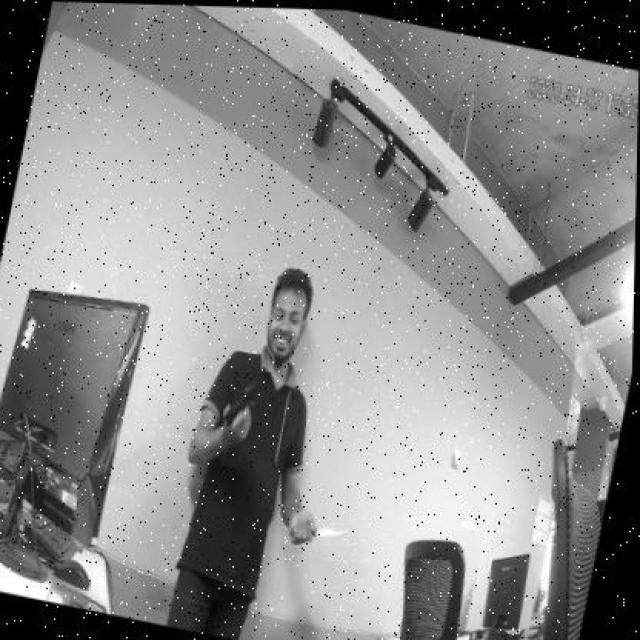weapon: (214, 389, 261, 444)
